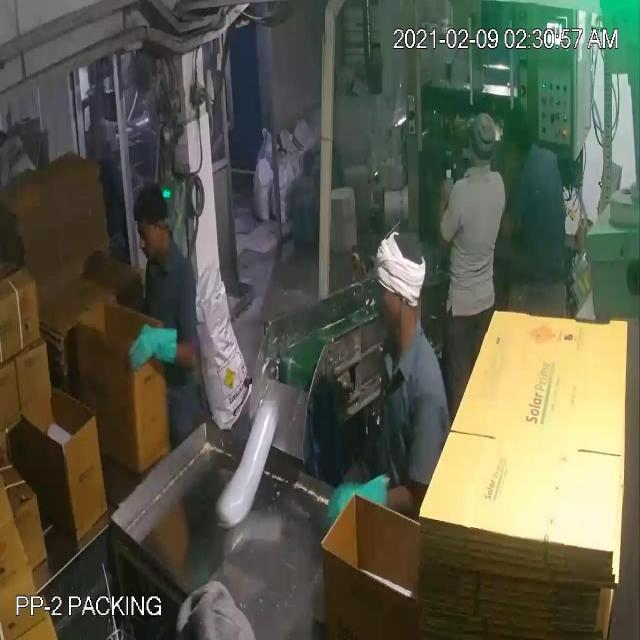Gloves: (69, 74, 354, 498)
